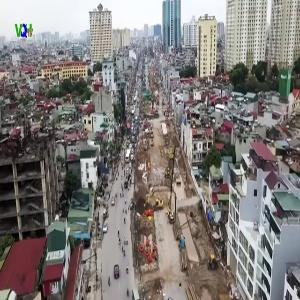drone: (88, 148, 128, 188)
